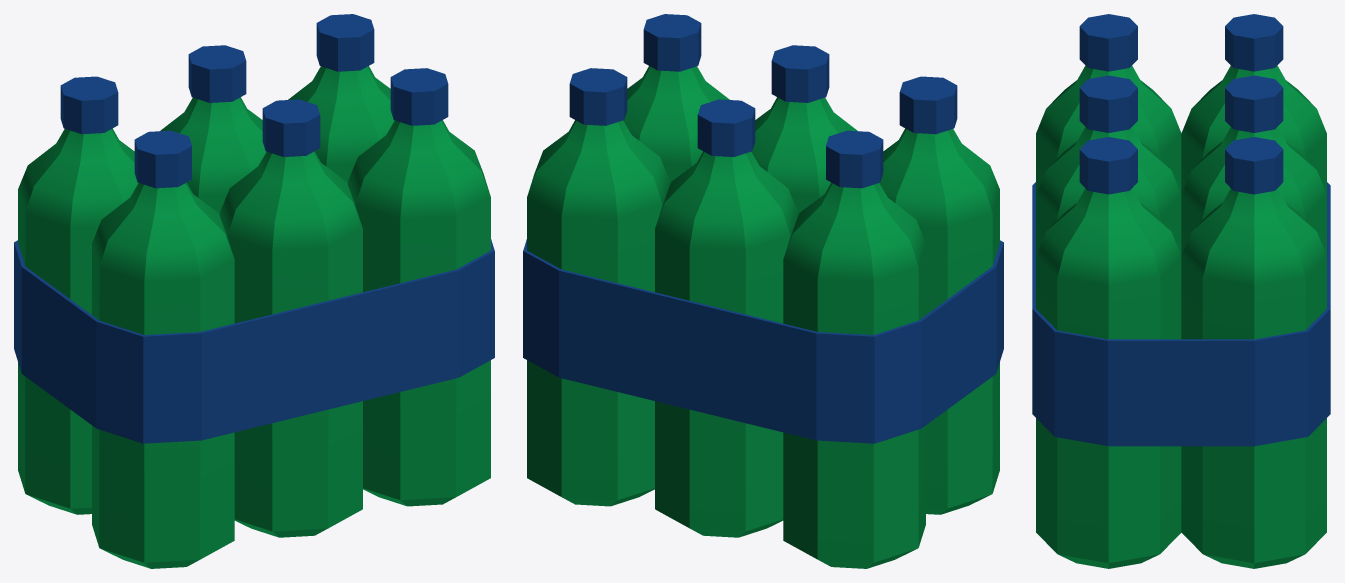
File: Sprite.fbx
The picture shows the model from 3 angles, left to right: view 1: azimuth 30°, elevation 25°; view 2: azimuth 150°, elevation 25°; view 3: azimuth 270°, elevation 25°; orthographic projection.
Visible parts, largest first — view 1: Sprite; view 2: Sprite; view 3: Sprite.
Part boxes in pixels (box(x1,y1,x2,y2)): Sprite: box(14, 14, 494, 568); Sprite: box(523, 14, 1003, 568); Sprite: box(1032, 14, 1330, 568).
Bounding box in the file's own units: 10.89 × 10.84 × 7.32.
